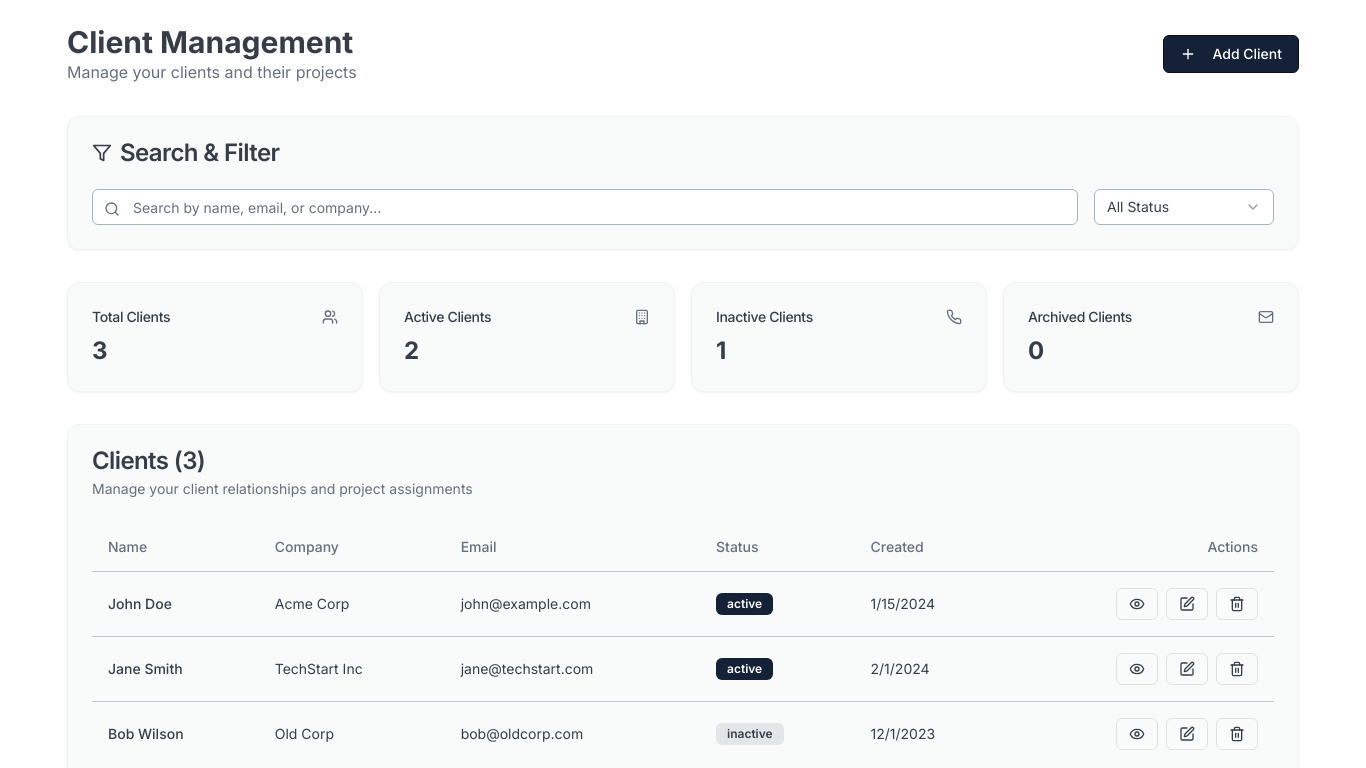
ClientsPage › opens create client modal with proper data-testid
// Click add client button
What coordinates should you click on to do the following:
click the button with test id "button-add-client"
I would click on:
 (1231, 54)
Its box is [1163,35,1299,73].
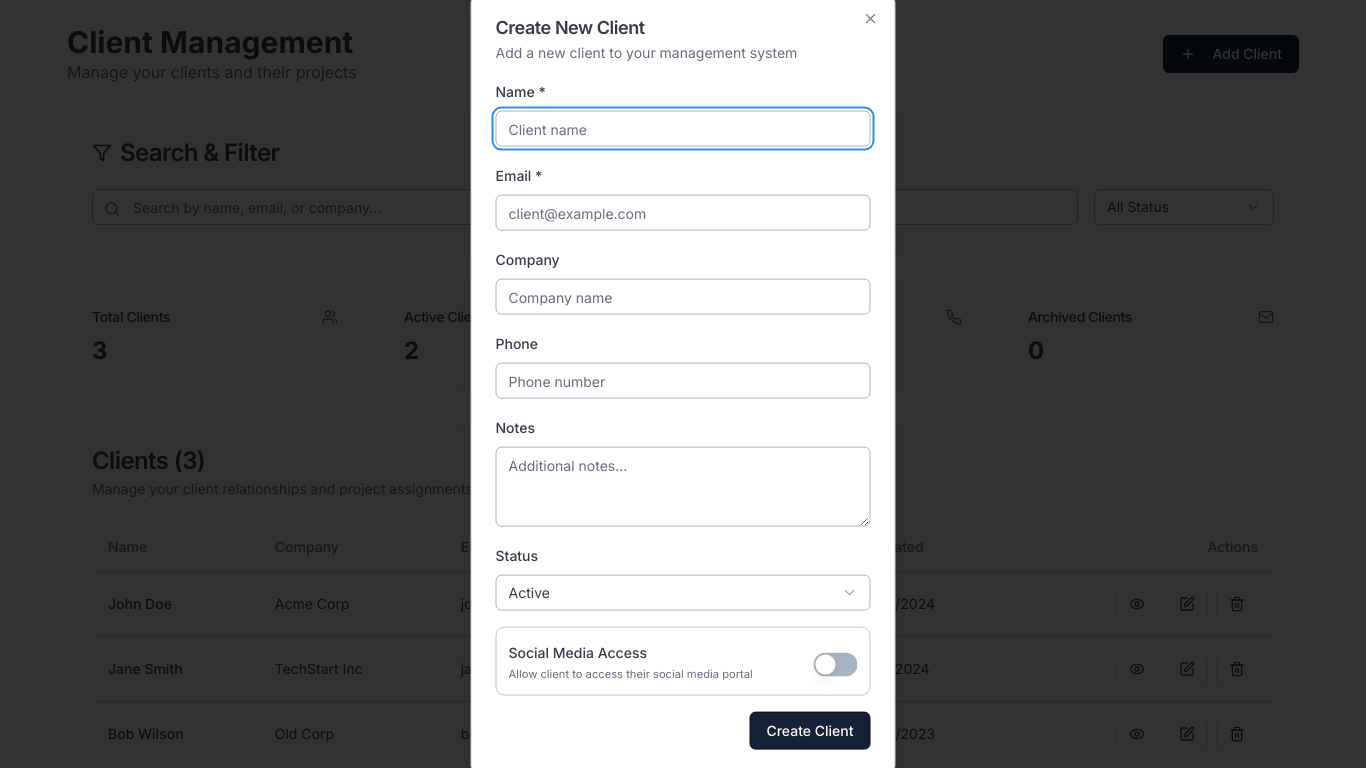
Check: the heading "Create New Client" is shown, box [496,17,645,38]
Check: the field with test id "input-client-name" is shown, box [496,111,870,147]
Check: the field with test id "input-client-email" is shown, box [496,195,870,231]
